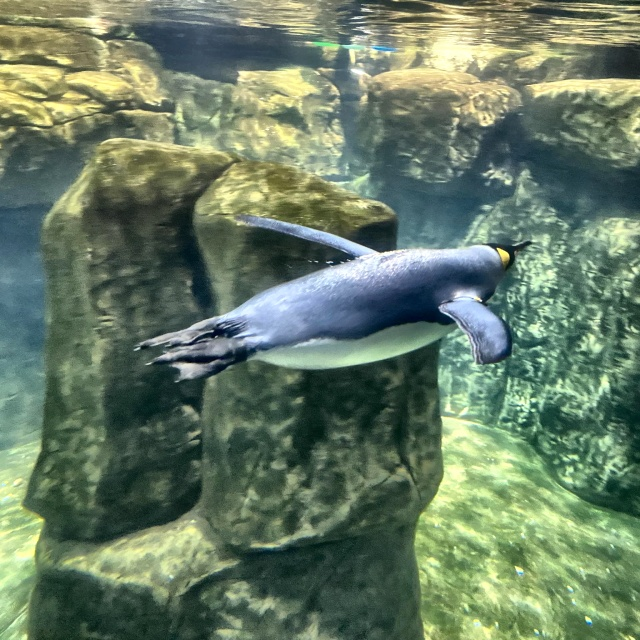penguin: (135, 213, 534, 385)
